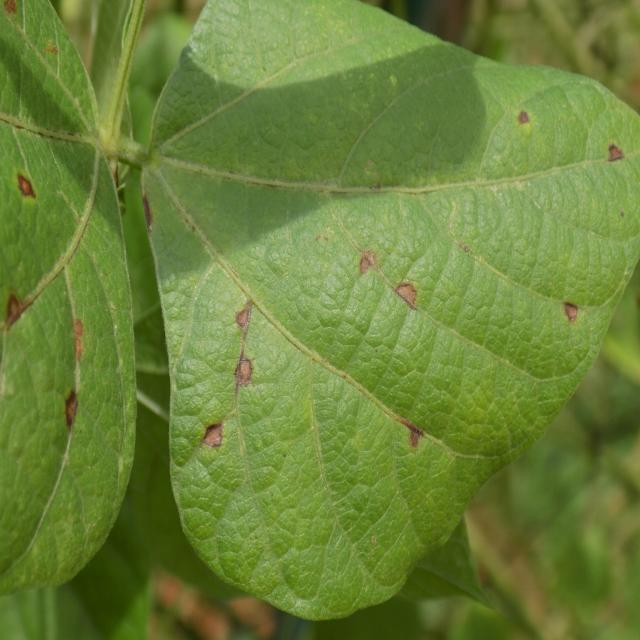Dolicos bean_cercospora leaf spot: (143, 0, 640, 618)
